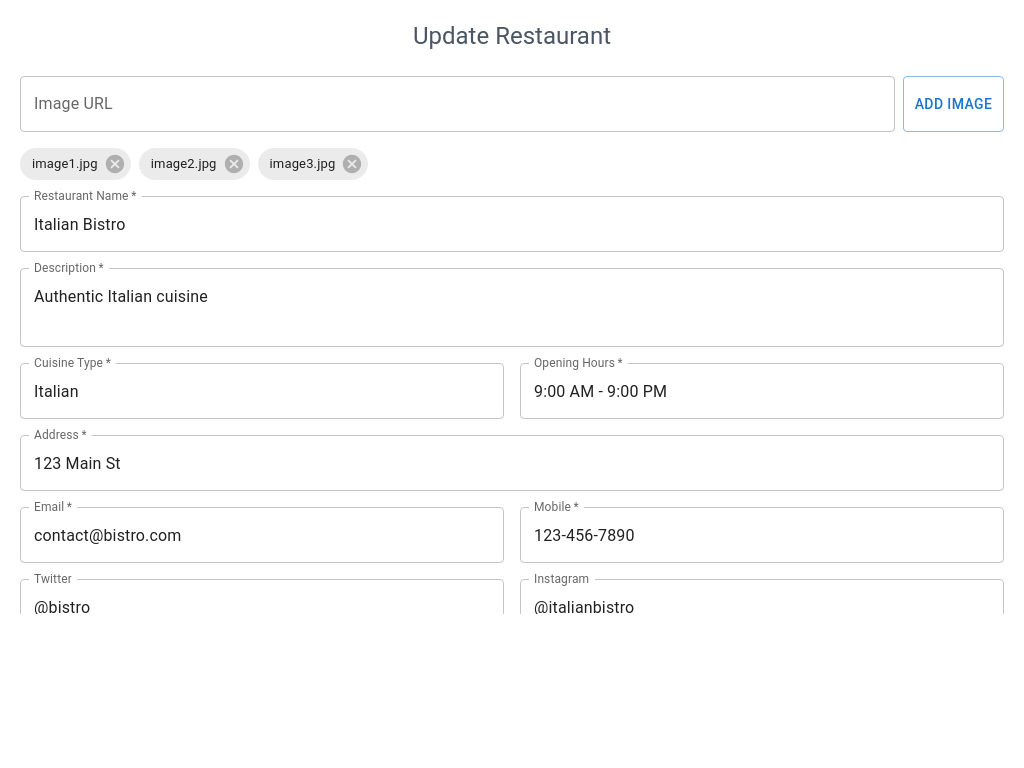
Test: RestaurantForm › allows removing images
The width and height of the screenshot is (1024, 768).
Expected: the button with test id "image-chip-0" is shown, [20,148,131,180]
Expected: the text "image1.jpg" is shown, [32,156,98,171]
Click the 1st icon at (115, 164), box [104,153,126,175]
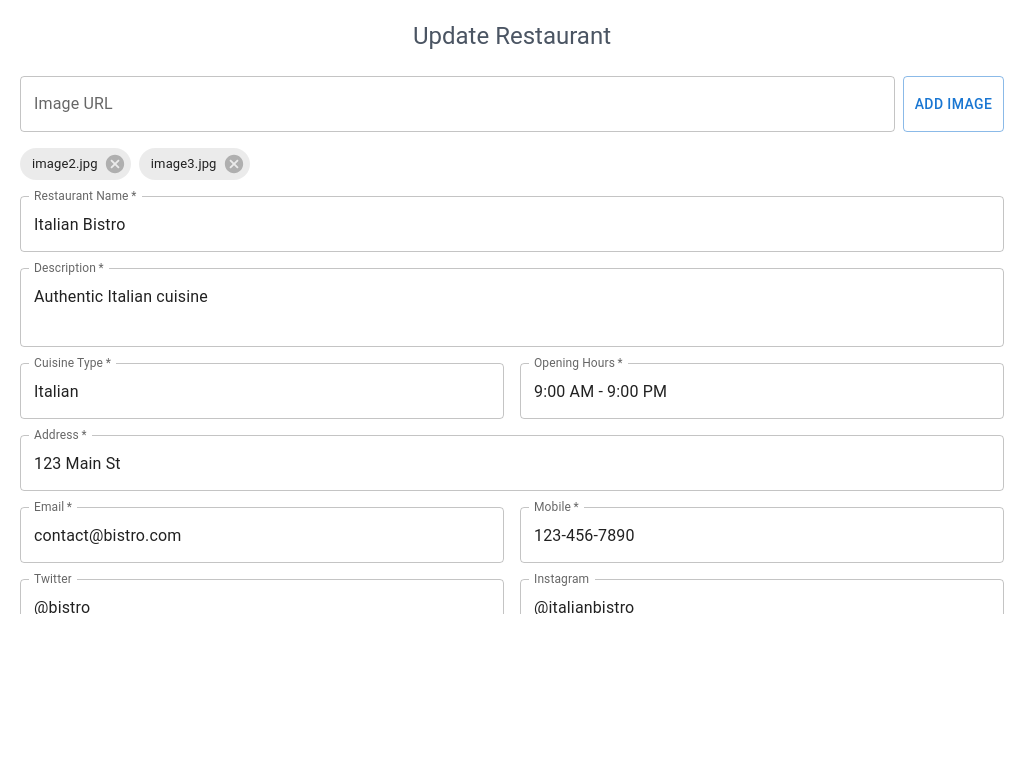
Result: the button "image1.jpg" is gone
